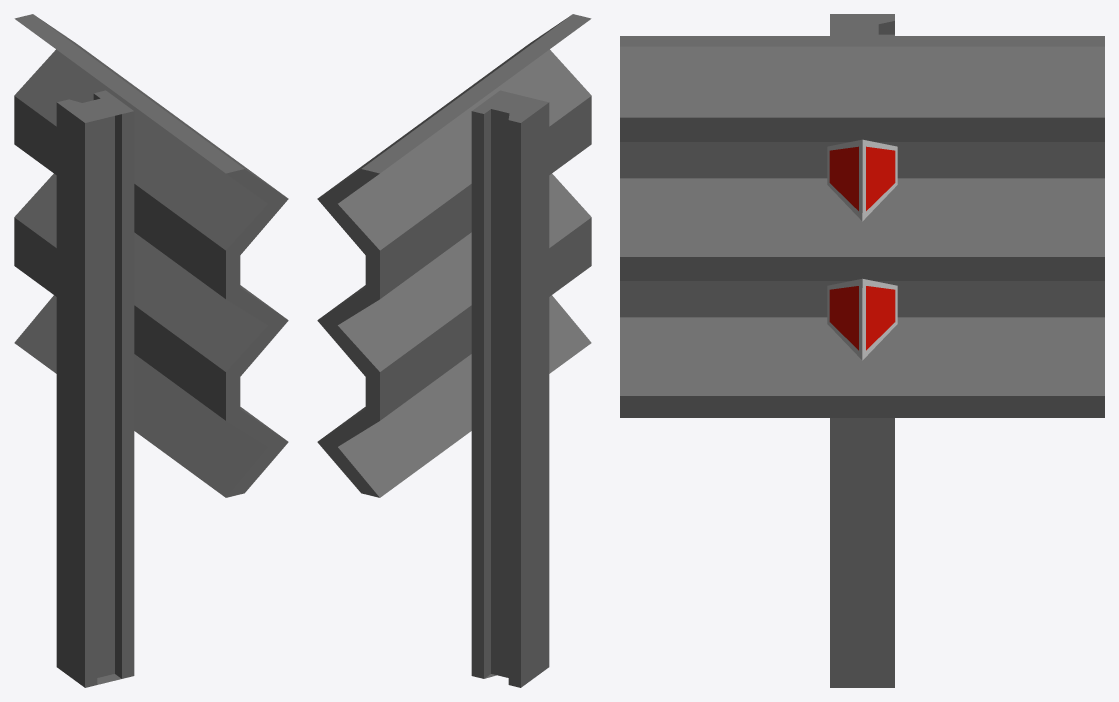
The model's file is Fence.fbx.
The picture shows the model from 3 angles, left to right: view 1: azimuth 30°, elevation 25°; view 2: azimuth 150°, elevation 25°; view 3: azimuth 270°, elevation 25°; orthographic projection. The views are drawn at different scales.
Parts seen in each view (by area): view 1: Bump_Stop, Pillar_Fence; view 2: Bump_Stop, Pillar_Fence; view 3: Bump_Stop, Pillar_Fence.
Boxes of the visible parts, x1,y1,x2,y2 form: Bump_Stop: (14, 14, 288, 497); Pillar_Fence: (56, 90, 134, 687); Bump_Stop: (317, 14, 591, 497); Pillar_Fence: (471, 90, 549, 687); Bump_Stop: (620, 36, 1104, 417); Pillar_Fence: (830, 14, 894, 687).
Size of the model in its own units: 0.4521 by 2.2 by 1.48.
